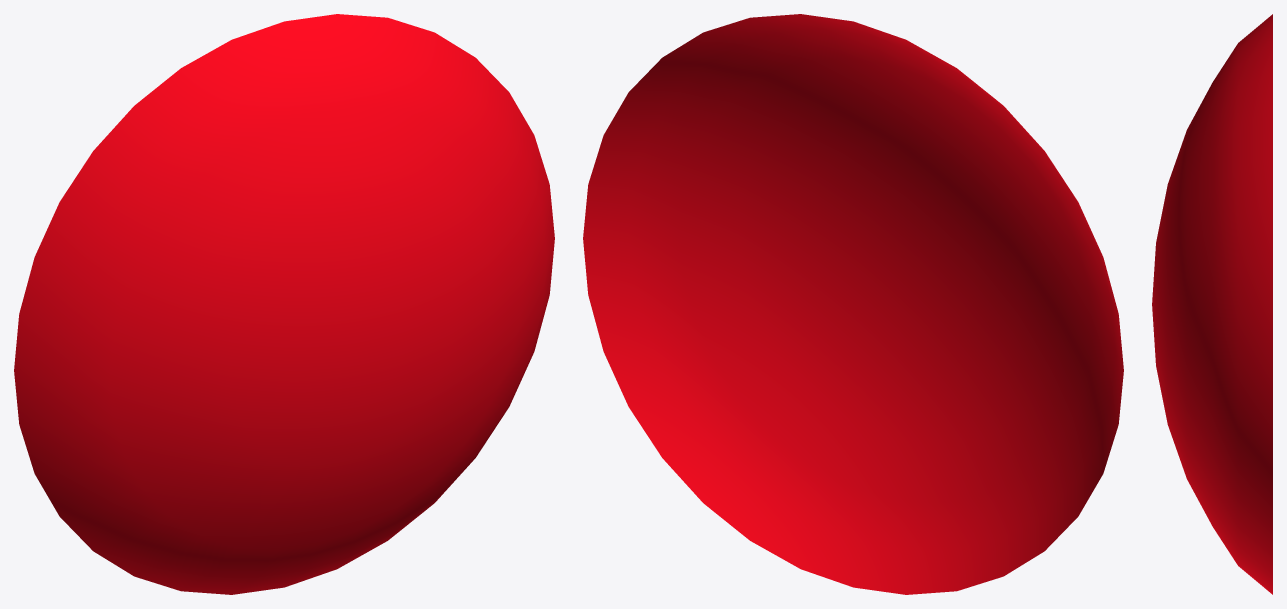
The model's file is redon.glb.
The picture shows the model from 3 angles, left to right: view 1: azimuth 30°, elevation 25°; view 2: azimuth 150°, elevation 25°; view 3: azimuth 270°, elevation 25°; orthographic projection. The views are drawn at different scales.
Parts seen in each view (by area): view 1: Sphere.004; view 2: Sphere.004; view 3: Sphere.004.
Part boxes in pixels (<box>): Sphere.004: <box>14,14,554,594</box>; Sphere.004: <box>583,14,1123,594</box>; Sphere.004: <box>1152,14,1272,594</box>.
Size of the model in its own units: 0.2432 by 0.2432 by 0.0506.
